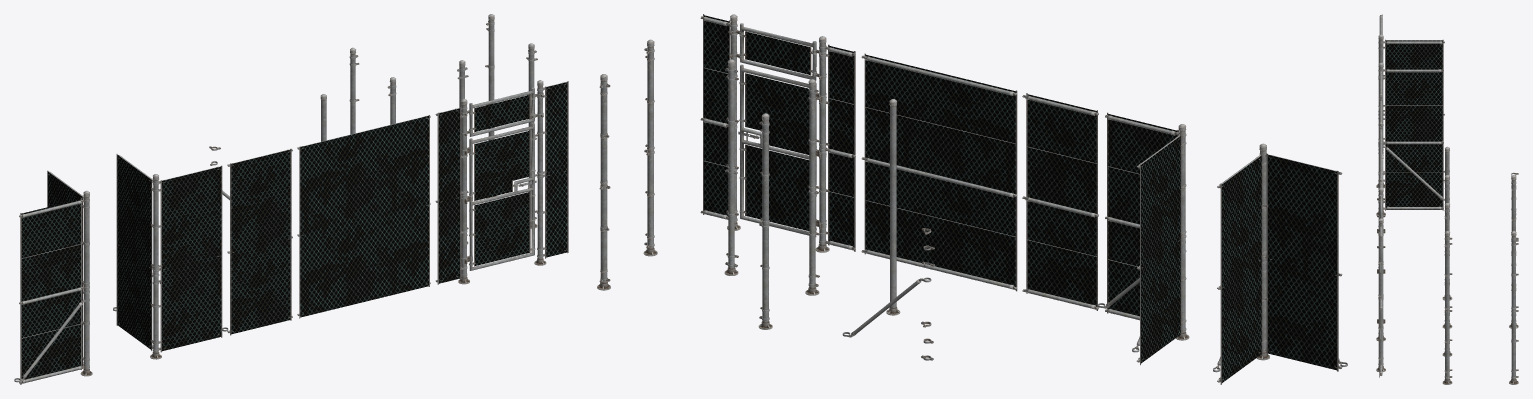
File: modular_chainlink_fence-1k.glb
3 views of the same model, side by side, from view 1: azimuth 30°, elevation 25°; view 2: azimuth 150°, elevation 25°; view 3: azimuth 270°, elevation 25° (orthographic). The views are drawn at different scales.
Parts seen in each view (by area): view 1: modular_chainlink_fence_double, modular_chainlink_fence_corner_outer, modular_chainlink_fence_door_frame, modular_chainlink_fence_corner_inner, modular_chainlink_fence, modular_chainlink_fence_door_gate, modular_chainlink_fence_start_01_corner_02, modular_chainlink_fence_start_01_corner_01, modular_chainlink_fence_end_02; view 2: modular_chainlink_fence_double, modular_chainlink_fence_corner_inner, modular_chainlink_fence_corner_outer, modular_chainlink_fence_door_frame, modular_chainlink_fence, modular_chainlink_fence_door_gate, modular_chainlink_fence_start_01_corner_02, modular_chainlink_post_middle, modular_chainlink_fence_end_01, modular_chainlink_fence_start_01_corner_01, modular_chainlink_fence_end_02, modular_chainlink_fence_post; view 3: modular_chainlink_fence_corner_outer, modular_chainlink_fence_corner_inner, modular_chainlink_fence_door_frame, modular_chainlink_fence_start_01_corner_01, modular_chainlink_fence_start_01_corner_02, modular_chainlink_fence_end_02, modular_chainlink_fence_double, modular_chainlink_post_middle, modular_chainlink_fence_end_01, modular_chainlink_fence_post.
Boxes of the visible parts, x1,y1,x2,y2 form: modular_chainlink_fence_double: (297,115,430,318); modular_chainlink_fence_corner_outer: (113,154,228,359); modular_chainlink_fence_door_frame: (435,80,568,284); modular_chainlink_fence_corner_inner: (14,170,92,384); modular_chainlink_fence: (227,148,292,335); modular_chainlink_fence_door_gate: (469,123,535,270); modular_chainlink_fence_start_01_corner_02: (485,14,496,198); modular_chainlink_fence_start_01_corner_01: (526,43,537,228); modular_chainlink_fence_end_02: (349,47,359,134); modular_chainlink_fence_double: (861,53,1017,291); modular_chainlink_fence_corner_inner: (1213,143,1347,384); modular_chainlink_fence_corner_outer: (1097,112,1189,365); modular_chainlink_fence_door_frame: (700,14,855,252); modular_chainlink_fence: (1022,93,1098,310); modular_chainlink_fence_door_gate: (739,64,816,236); modular_chainlink_fence_start_01_corner_02: (597,74,610,290); modular_chainlink_post_middle: (724,59,738,275); modular_chainlink_fence_end_01: (805,79,819,295); modular_chainlink_fence_start_01_corner_01: (643,39,657,256); modular_chainlink_fence_end_02: (758,113,772,329); modular_chainlink_fence_post: (886,99,900,315); modular_chainlink_fence_corner_outer: (1376,62,1449,228); modular_chainlink_fence_corner_inner: (1376,14,1449,188); modular_chainlink_fence_door_frame: (1376,182,1385,377); modular_chainlink_fence_start_01_corner_01: (1442,231,1452,384); modular_chainlink_fence_start_01_corner_02: (1509,231,1518,384); modular_chainlink_fence_end_02: (1509,175,1518,328); modular_chainlink_fence_double: (1379,126,1382,183); modular_chainlink_post_middle: (1442,203,1452,356); modular_chainlink_fence_end_01: (1442,175,1452,328); modular_chainlink_fence_post: (1442,146,1452,300).
Size of the model in its own units: 8.12 by 2.52 by 2.15.
2 materials, 2 textured.
